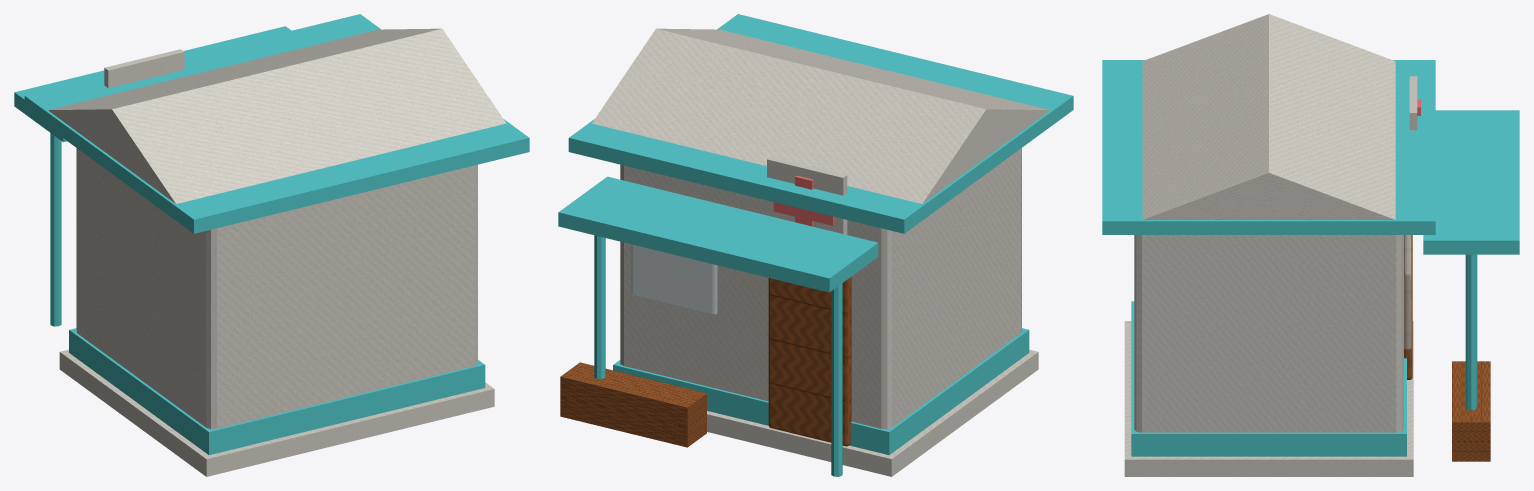
File: theme-park-rides-and-coasters-theme-park-rides-and-coa-6c237fd2__28677.glb
3 views of the same model, side by side, from view 1: azimuth 30°, elevation 25°; view 2: azimuth 150°, elevation 25°; view 3: azimuth 270°, elevation 25° (orthographic).
Parts seen in each view (by area): view 1: theme-park-rides-and-coasters-first-aid-hut; view 2: theme-park-rides-and-coasters-first-aid-hut; view 3: theme-park-rides-and-coasters-first-aid-hut.
Part boxes in pixels (bbox=[...]): theme-park-rides-and-coasters-first-aid-hut: bbox=[14, 14, 529, 476]; theme-park-rides-and-coasters-first-aid-hut: bbox=[558, 14, 1073, 476]; theme-park-rides-and-coasters-first-aid-hut: bbox=[1102, 14, 1519, 476].
Size of the model in its own units: 3.96 by 3.6 by 4.33.
5 materials, 2 textured.
